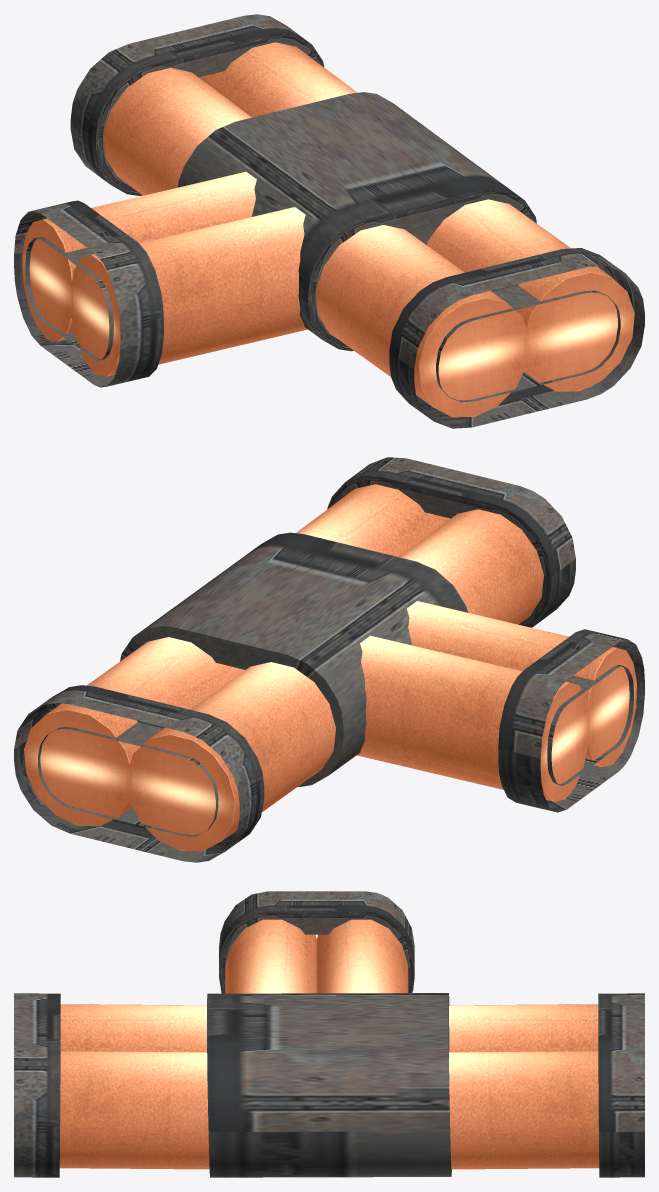
File: heat-pipe-t-left.glb
3 renders of one model, top to bottom at view 1: azimuth 30°, elevation 25°; view 2: azimuth 150°, elevation 25°; view 3: azimuth 270°, elevation 25°, orthographic. The views are drawn at different scales.
Parts seen in each view (by area): view 1: heat-pipe-t-left; view 2: heat-pipe-t-left; view 3: heat-pipe-t-left.
Boxes of the visible parts, x1,y1,x2,y2 form: heat-pipe-t-left: [14, 14, 644, 428]; heat-pipe-t-left: [14, 457, 644, 862]; heat-pipe-t-left: [14, 891, 644, 1177].
Bounding box in the file's own units: 0.6939 × 0.2136 × 1.
2 materials, 2 textured.
